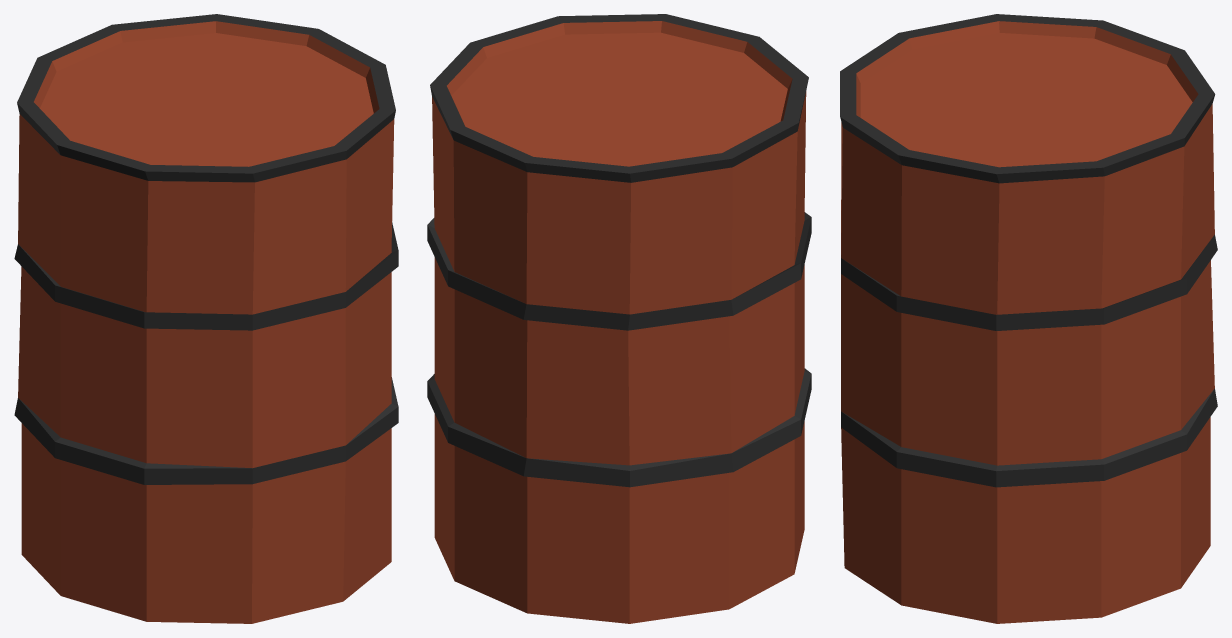
File: oil barrel.fbx
3 renders of one model, left to right at view 1: azimuth 30°, elevation 25°; view 2: azimuth 150°, elevation 25°; view 3: azimuth 270°, elevation 25°, orthographic.
Parts seen in each view (by area): view 1: oil barrel; view 2: oil barrel; view 3: oil barrel.
Boxes of the visible parts, x1,y1,x2,y2 form: oil barrel: (14,14,398,623); oil barrel: (427,14,811,623); oil barrel: (840,14,1217,623).
Bounding box in the file's own units: 265 × 344 × 261.
